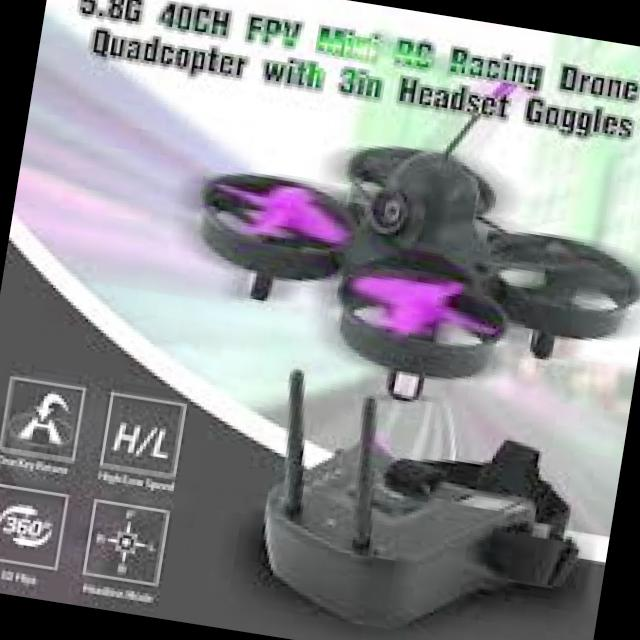drone: (136, 93, 640, 429)
